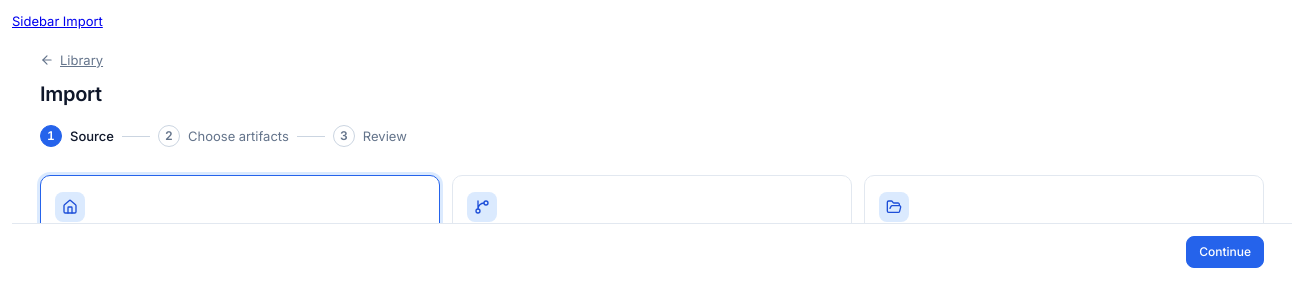
it: Import screen › shows an already-imported row as not importable, without an X
This screenshot has width=1292, height=285.
Click the button "Continue" at x=1225, y=252, box x1=1186 y1=236 x2=1264 y2=268
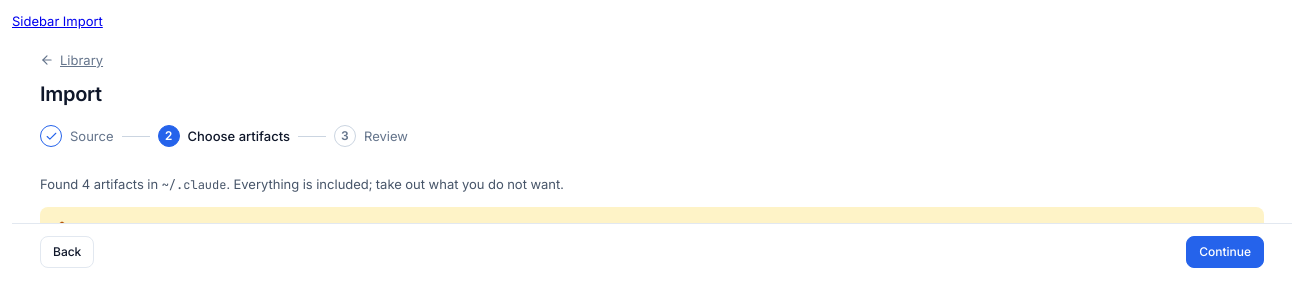
Check: the text "Found 4 artifacts" is shown, box x1=40 y1=176 x2=564 y2=193
